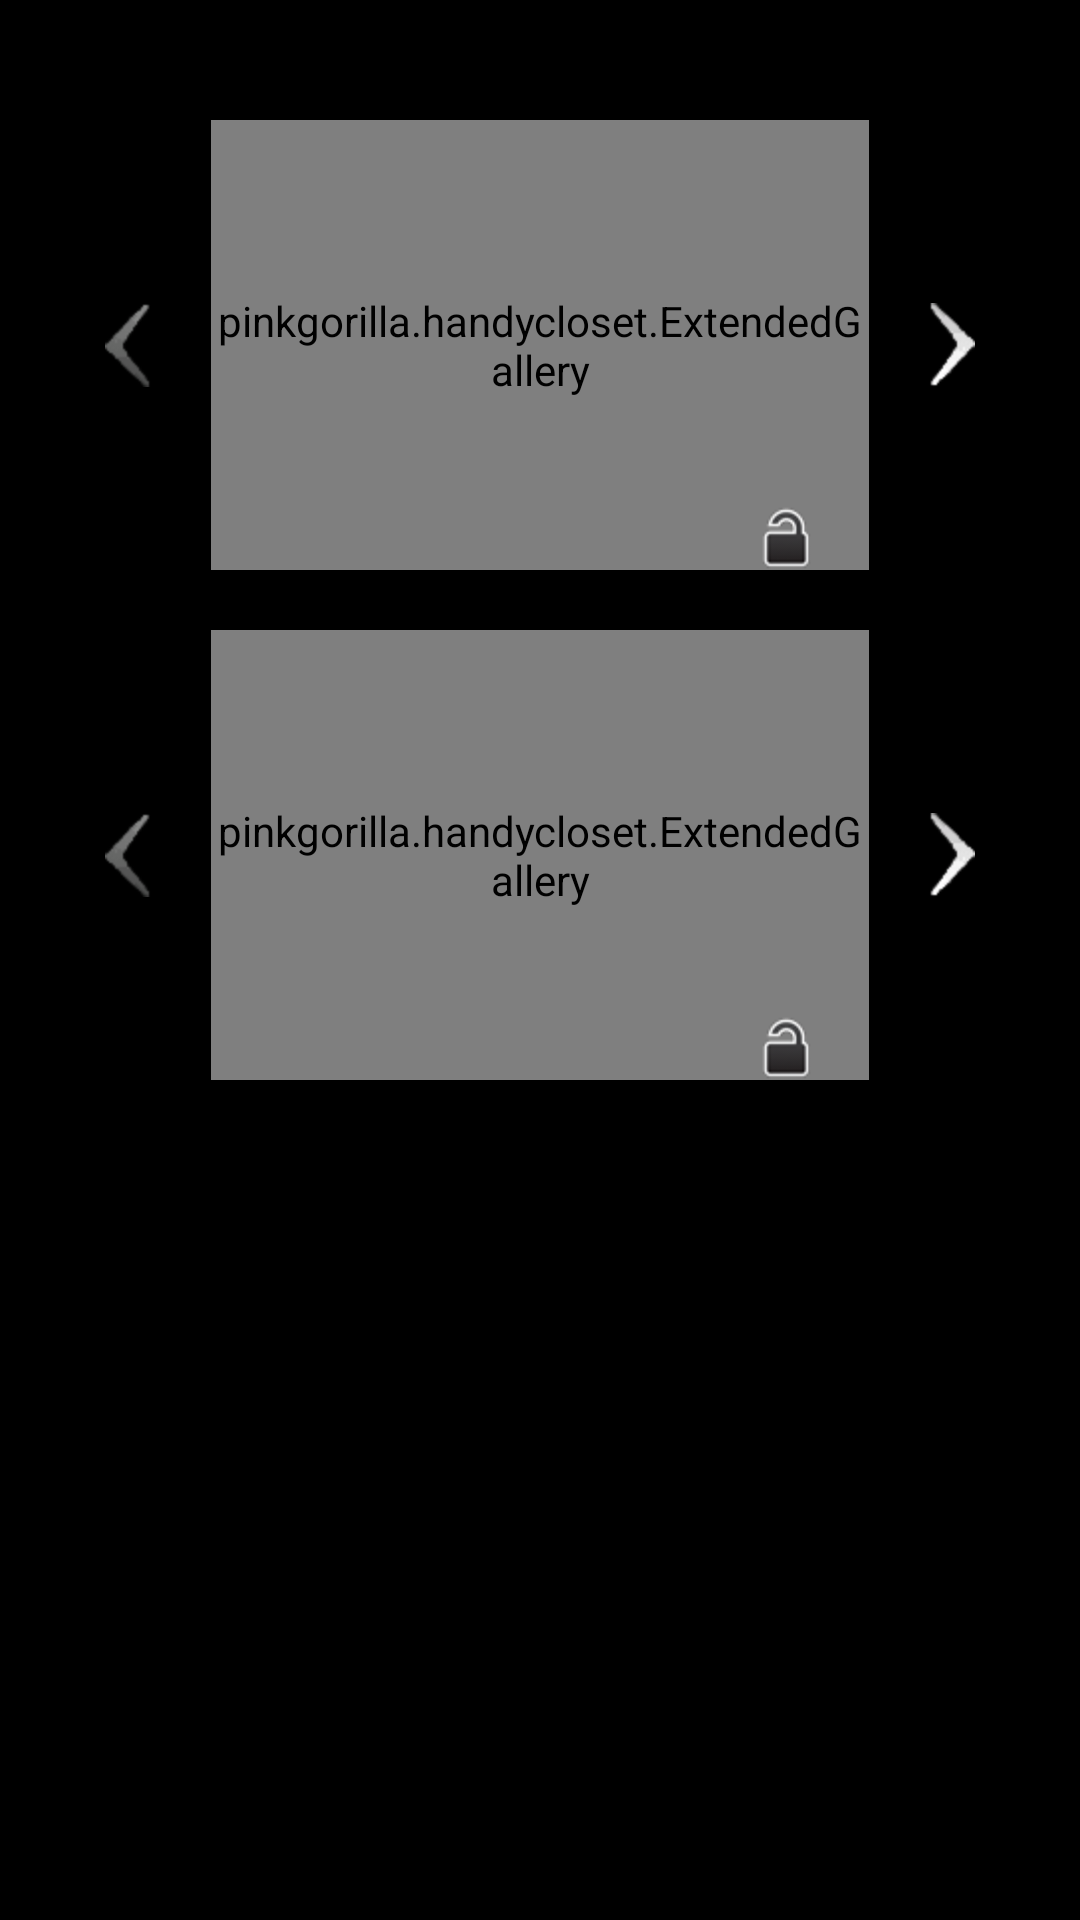

Icon click points for this 1080px x 1920px phone screenshot, format (x,y):
leftcaret: (127,345), (127,855)
rightcaret: (952,344), (952,854)
unlock: (786,538), (786,1048)
